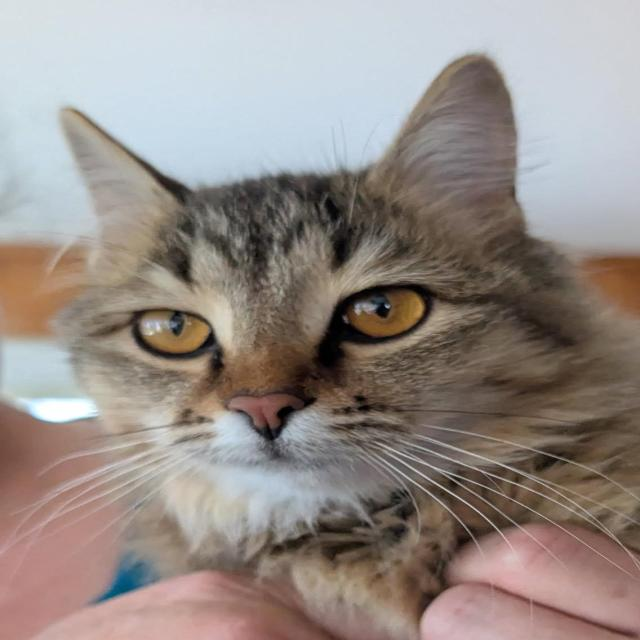maine_coon_cat: (40, 49, 598, 516)
